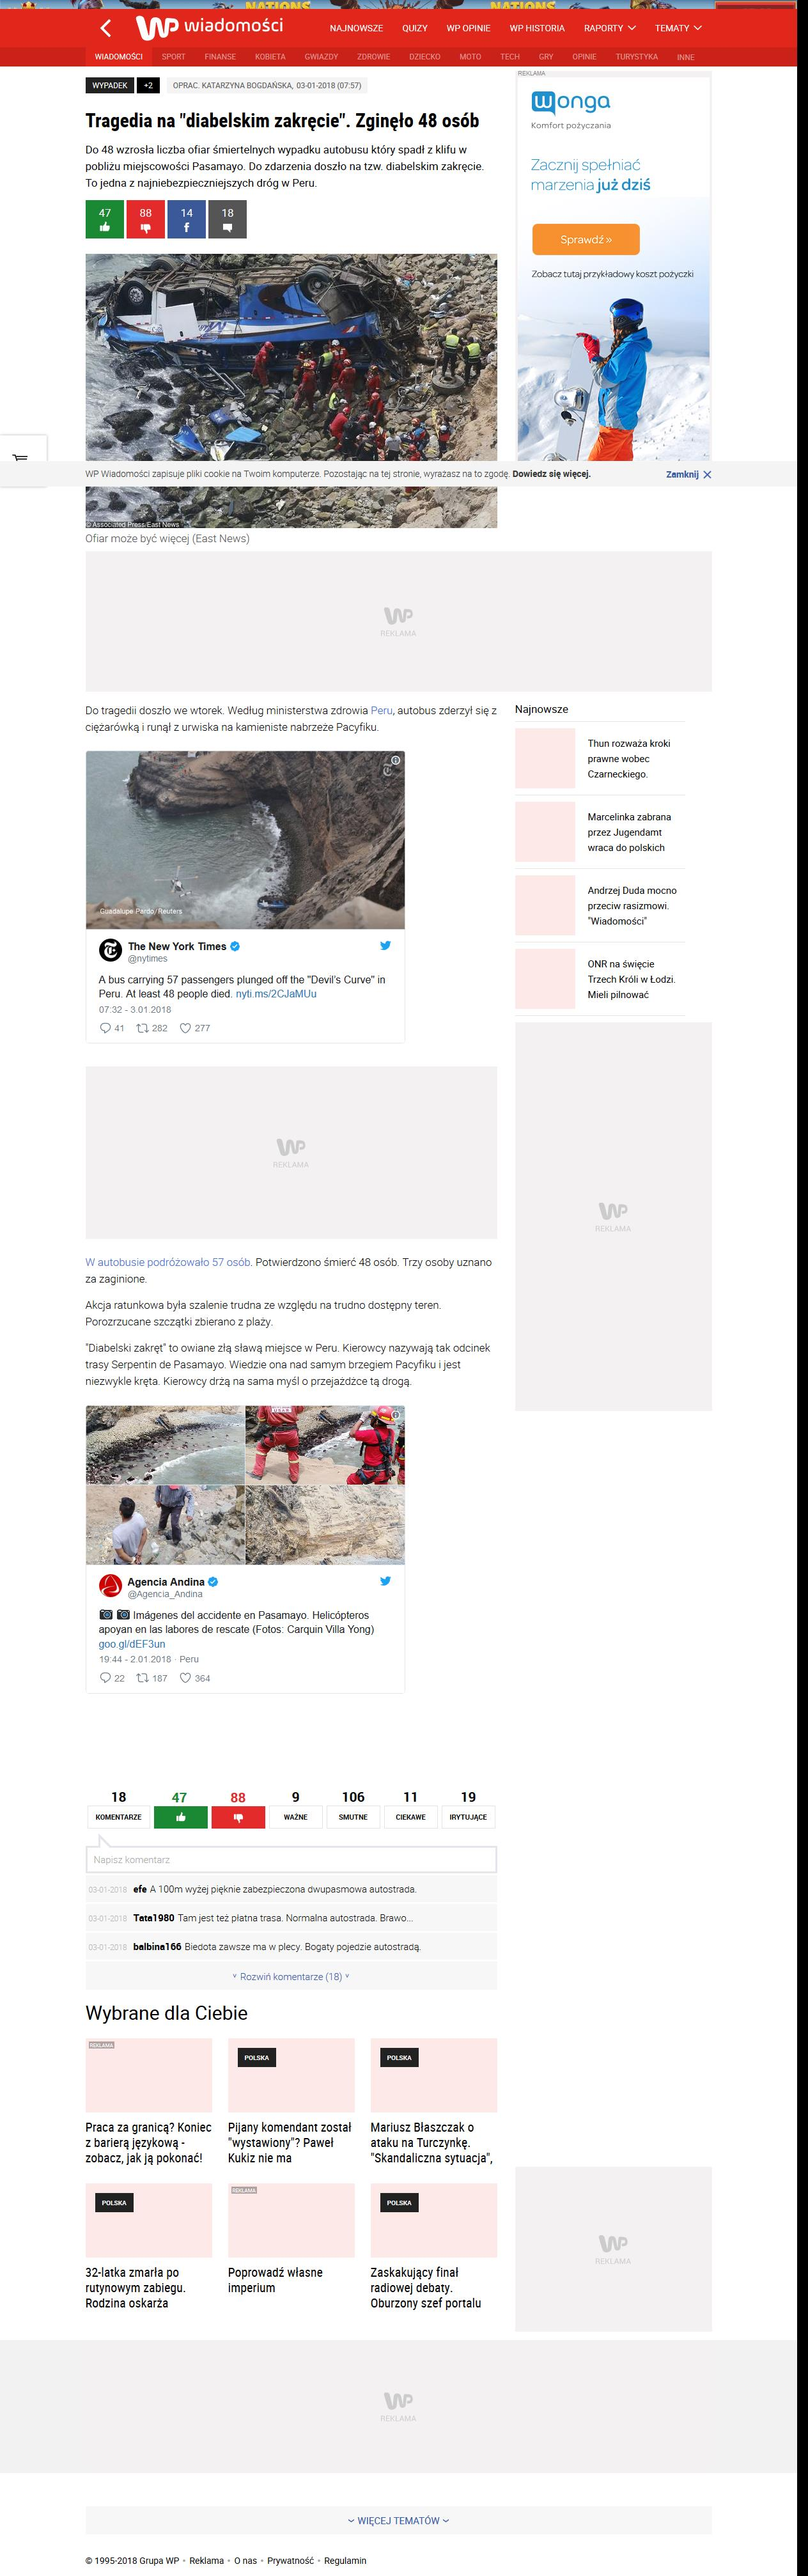title: (85, 112, 480, 133)
